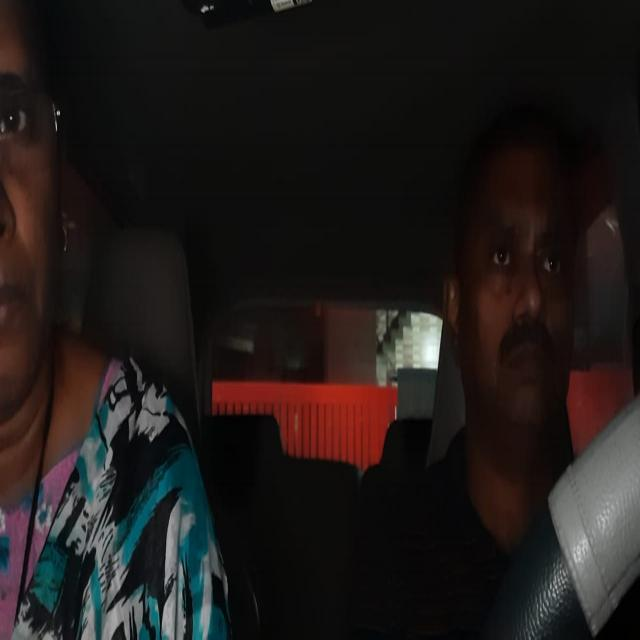person: (462, 153, 570, 444), (0, 16, 64, 379)
